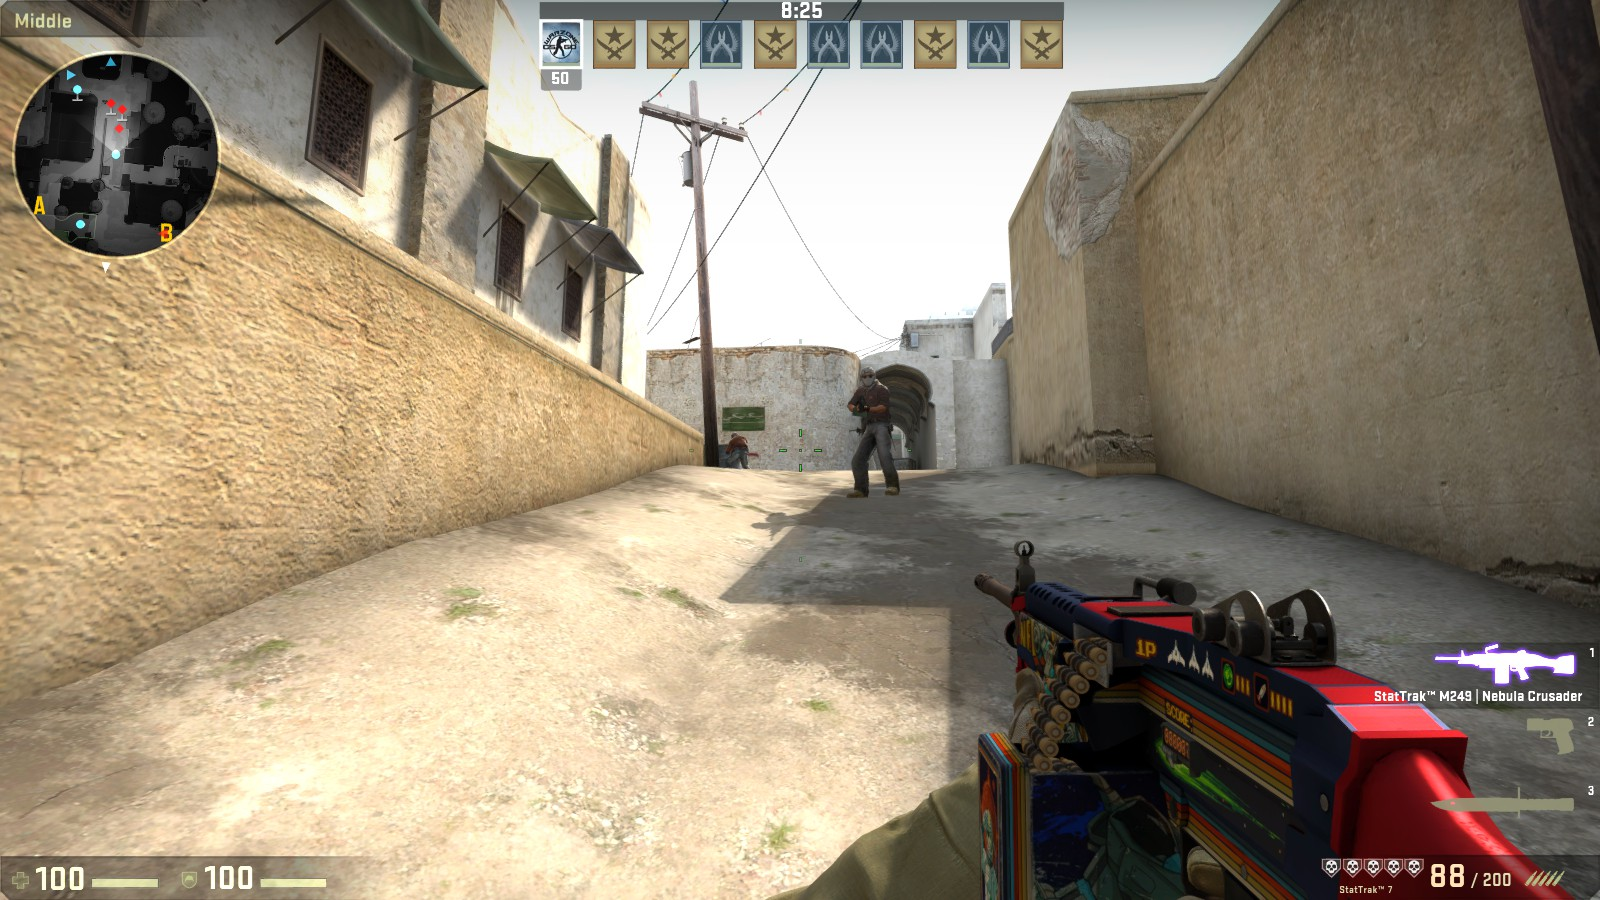t: (842, 362, 904, 502), (724, 430, 751, 471)
th: (858, 365, 880, 390), (727, 432, 740, 441)
